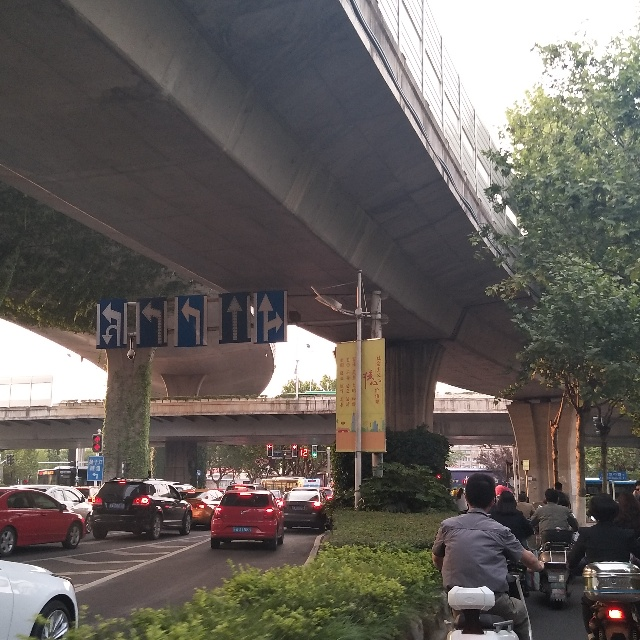left: (170, 293, 212, 351), (135, 295, 168, 347)
straight: (219, 290, 252, 345)
